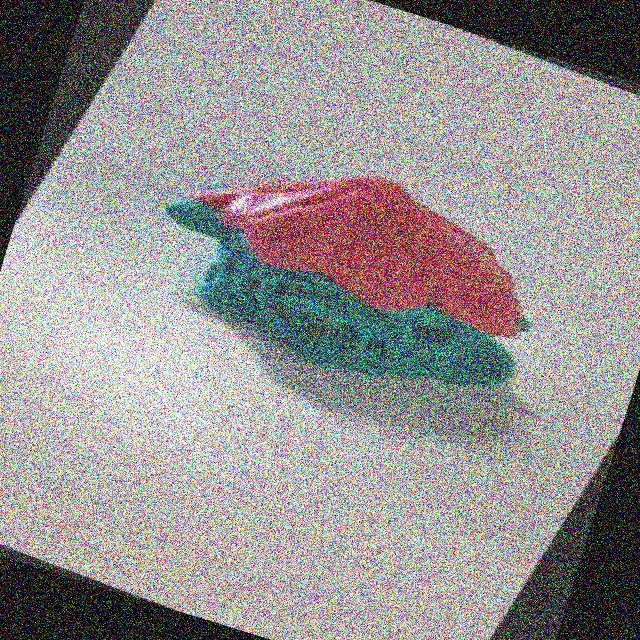House: (87, 81, 618, 451)
